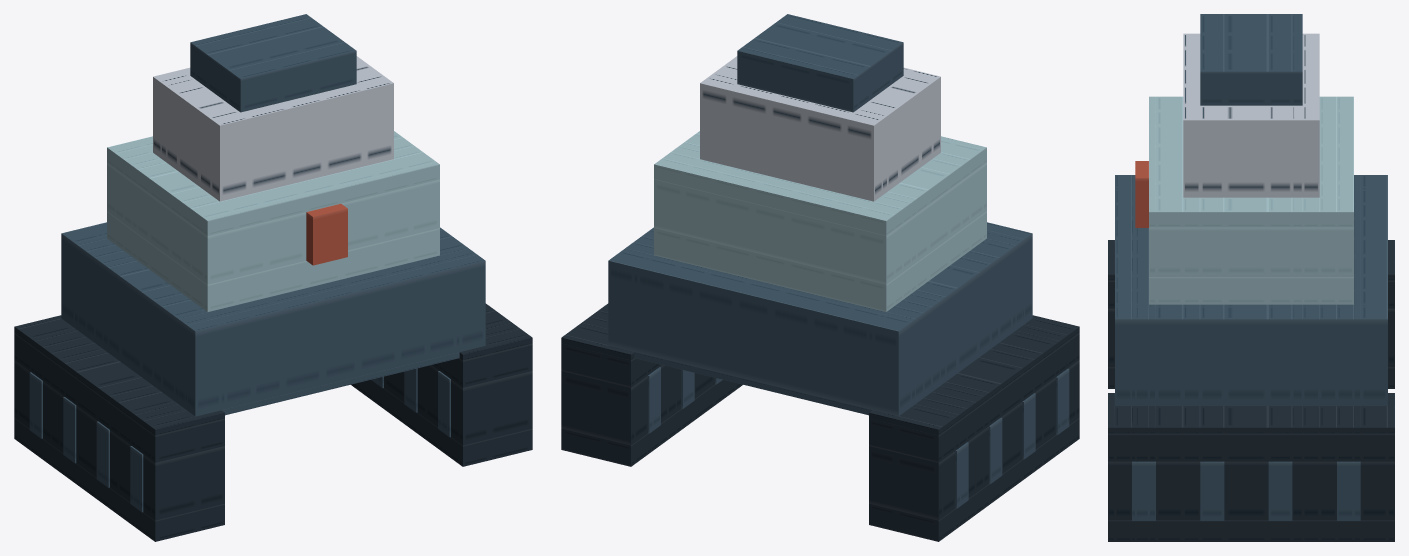
File: sc_lobby_robot_sentry.obj
The picture shows the model from 3 angles, left to right: view 1: azimuth 30°, elevation 25°; view 2: azimuth 150°, elevation 25°; view 3: azimuth 270°, elevation 25°; orthographic projection.
Bounding box in the file's own units: 13.1 × 13.1 × 8.4.
1 material, 1 textured.
